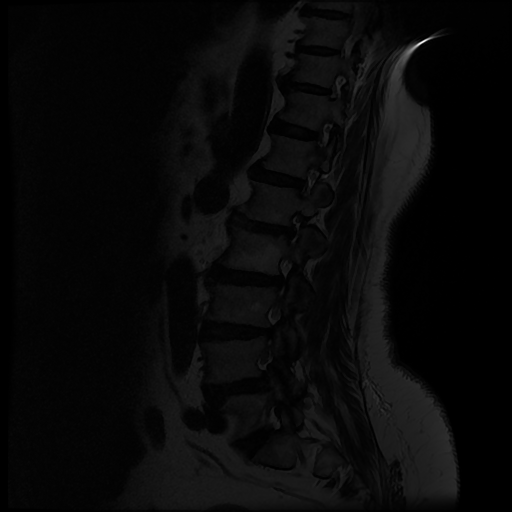LFS0: (248, 394, 290, 443), (270, 253, 306, 302), (273, 206, 312, 250)
